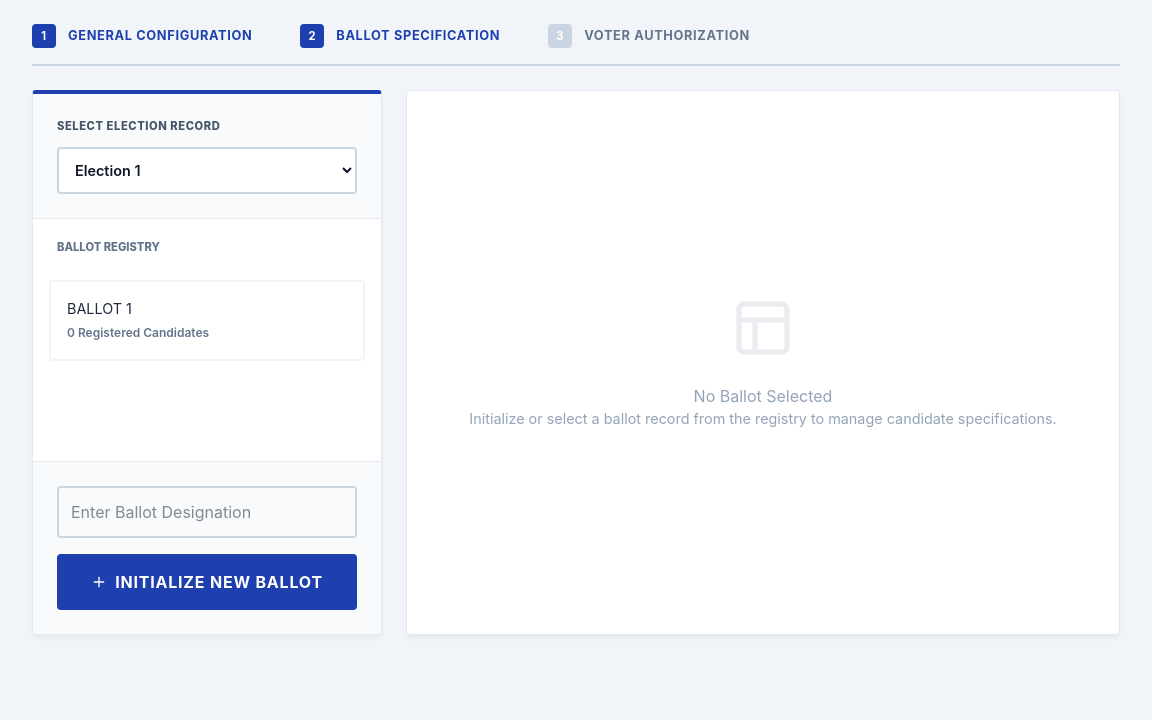
Scenario: BallotDesigner › displays remove button for candidates
expect the heading "Ballot 1" is shown: met, box x1=67 y1=300 x2=132 y2=317
Click the text "Ballot 1": point(207, 320) x1=49 y1=280 x2=365 y2=361
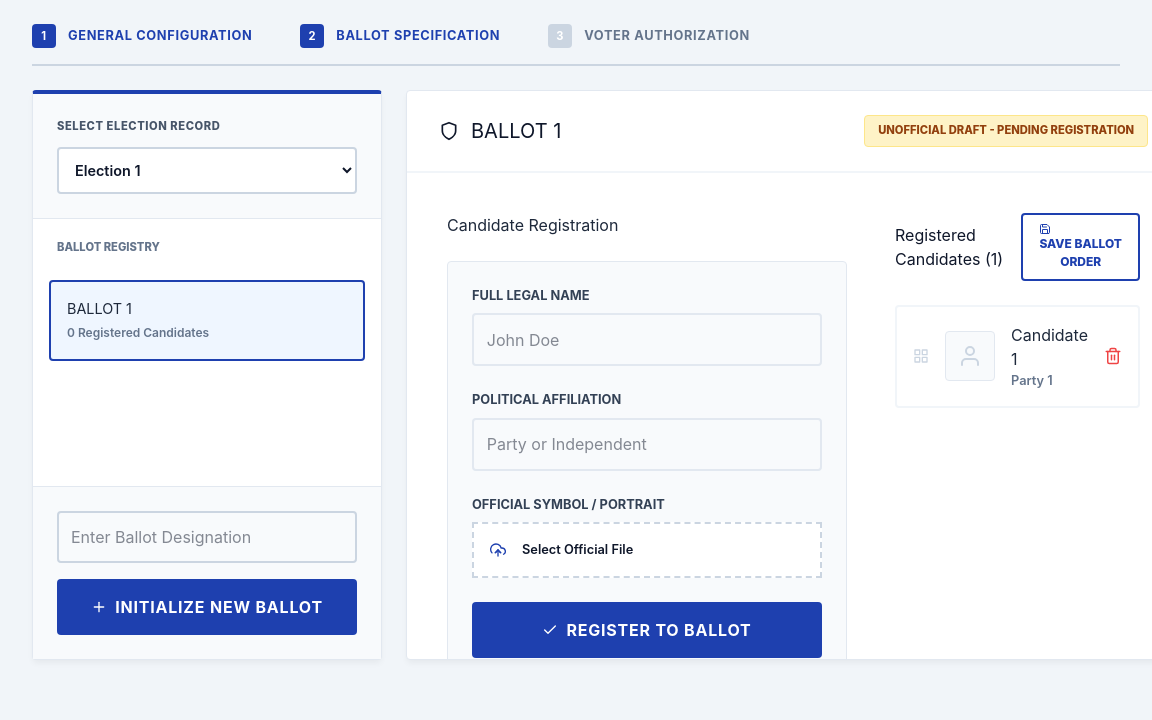
expect the heading "Candidate 1" is shown: met, box x1=1011 y1=323 x2=1088 y2=371
expect the text "Party 1" is shown: met, box x1=1011 y1=373 x2=1053 y2=388
